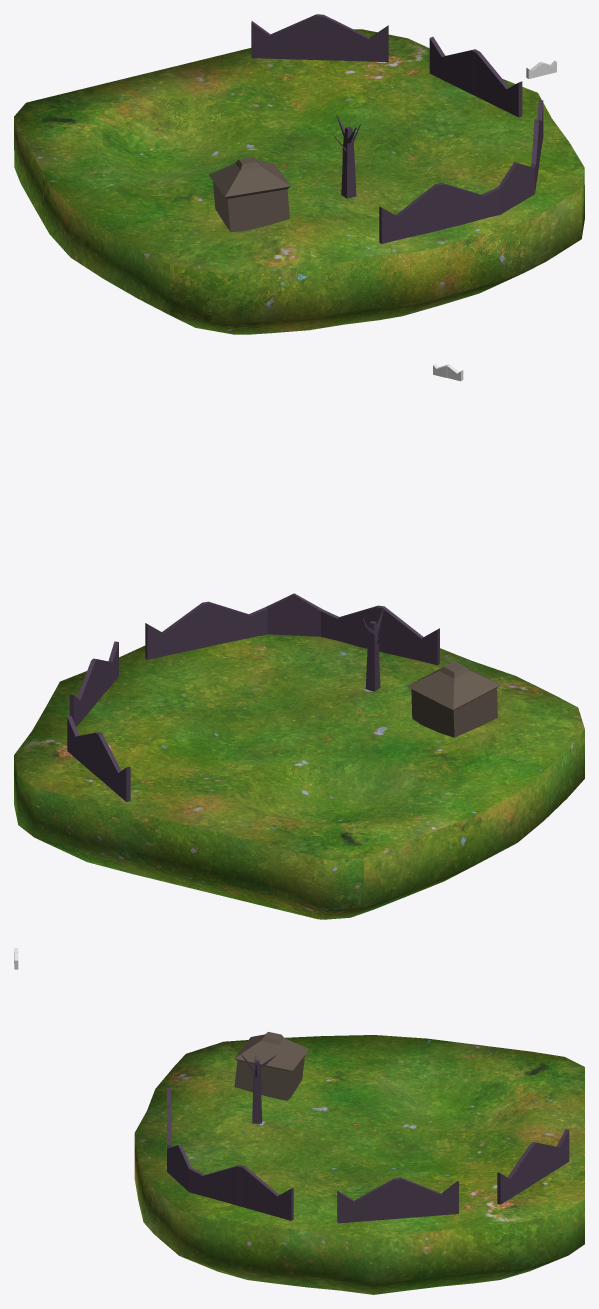
The model's file is town.fbx.
3 views of the same model, one above another, from view 1: azimuth 30°, elevation 25°; view 2: azimuth 150°, elevation 25°; view 3: azimuth 270°, elevation 25° (orthographic). The views are drawn at different scales.
Parts seen in each view (by area): view 1: Cube, Cube.001, Plane, Cube.003; view 2: Cube, Cube.001, Plane, Cube.003; view 3: Cube, Cube.001, Plane, Cube.003.
Part boxes in pixels (<box>): Cube: <box>14,29,584,334</box>; Cube.001: <box>251,14,543,243</box>; Plane: <box>209,156,290,231</box>; Cube.003: <box>333,115,360,198</box>; Cube: <box>14,634,584,919</box>; Cube.001: <box>67,593,439,801</box>; Plane: <box>407,661,500,737</box>; Cube.003: <box>362,608,389,691</box>; Cube: <box>134,1035,584,1294</box>; Cube.001: <box>167,1087,569,1223</box>; Plane: <box>234,1032,309,1100</box>; Cube.003: <box>241,1054,275,1123</box>.
Size of the model in its own units: 9758 by 7125 by 11533.
